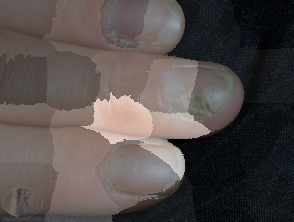Nail_psoriasis: (149, 54, 241, 129), (97, 0, 192, 69), (93, 163, 187, 206)
